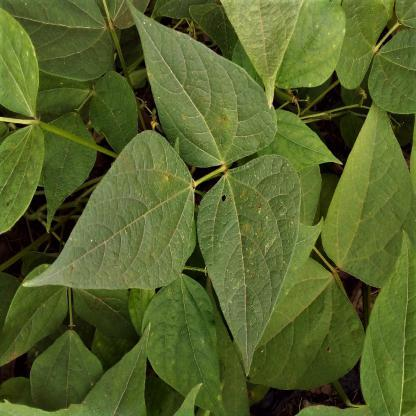Beans_Rust: (29, 129, 196, 291), (128, 0, 276, 161), (200, 153, 302, 367)
